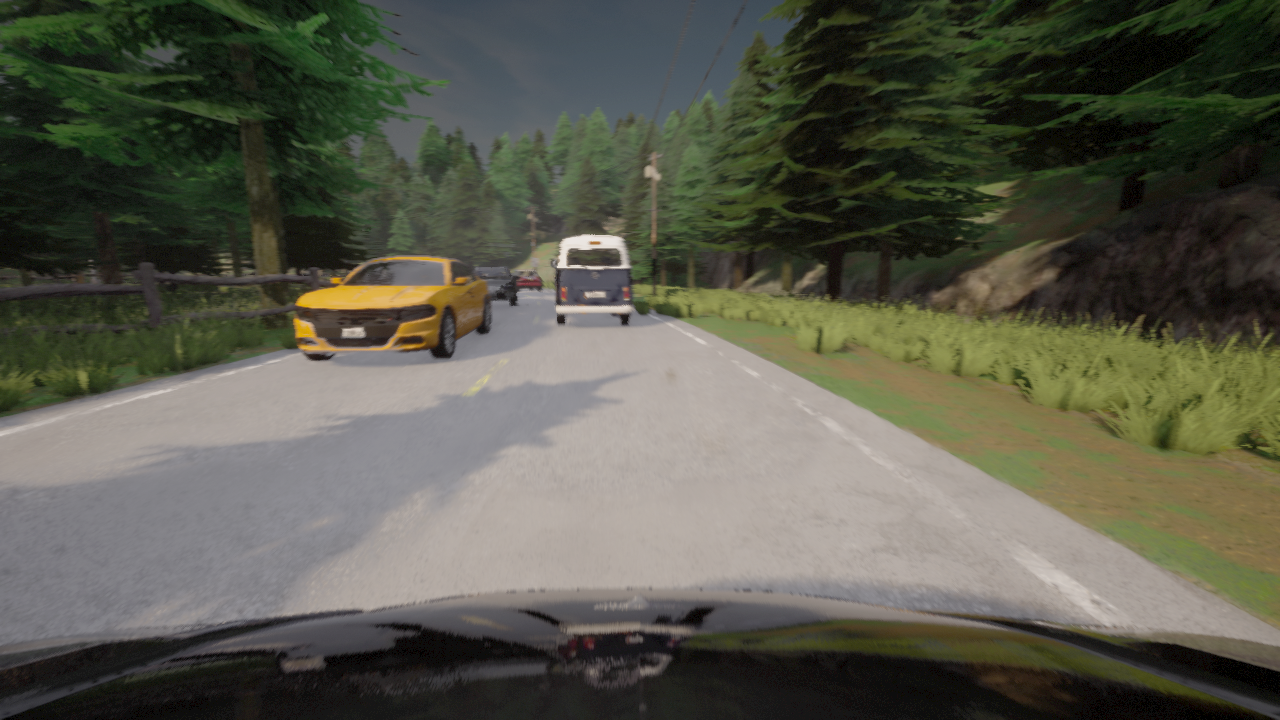cyclist: (0, 588, 1279, 719), (294, 256, 490, 360), (552, 236, 633, 325), (474, 266, 519, 304), (513, 270, 542, 290)
